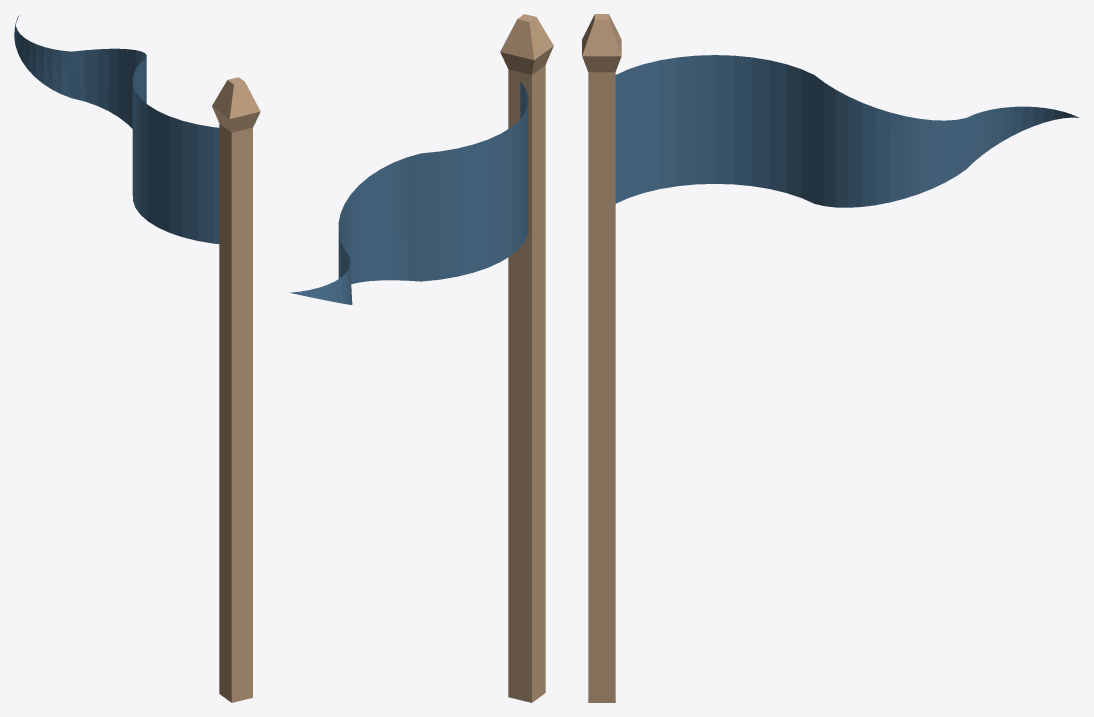
The model's file is flagblue.glb.
3 views of the same model, side by side, from view 1: azimuth 30°, elevation 25°; view 2: azimuth 150°, elevation 25°; view 3: azimuth 270°, elevation 25° (orthographic). The views are drawn at different scales.
Visible parts, largest first — view 1: flagBlue, flag; view 2: flag, flagBlue; view 3: flag, flagBlue.
Part boxes in pixels (bbox=[...]): flagBlue: bbox=[212, 77, 260, 702]; flag: bbox=[14, 15, 219, 243]; flag: bbox=[289, 81, 528, 304]; flagBlue: bbox=[500, 14, 553, 702]; flag: bbox=[615, 55, 1078, 207]; flagBlue: bbox=[582, 14, 621, 702].
Bounding box in the file's own units: 0.8991 × 7.92 × 5.25.
